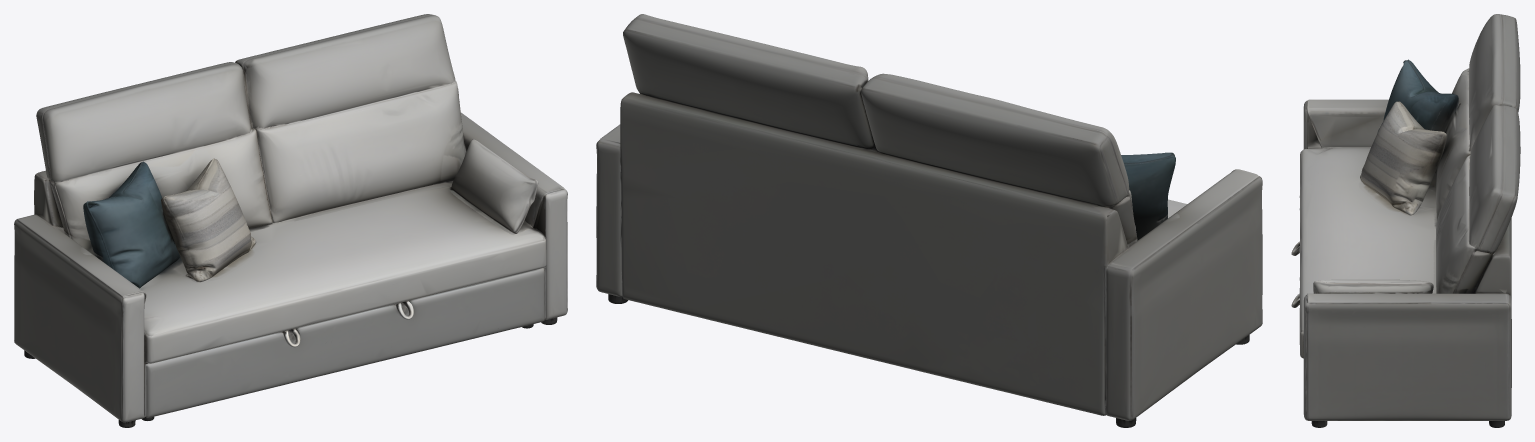
File: Linkas_sofabed_02_v1.glb
3 views of the same model, side by side, from view 1: azimuth 30°, elevation 25°; view 2: azimuth 150°, elevation 25°; view 3: azimuth 270°, elevation 25° (orthographic). The views are drawn at different scales.
Parts seen in each view (by area): view 1: node_0; view 2: node_0; view 3: node_0.
Part boxes in pixels (left/top/right/bottom): node_0: left=14, top=14, right=567, bottom=427; node_0: left=596, top=14, right=1262, bottom=427; node_0: left=1291, top=14, right=1520, bottom=427.
Size of the model in its own units: 1.02 by 0.5277 by 0.4802.
Materials: 1 (1 with a texture image).
